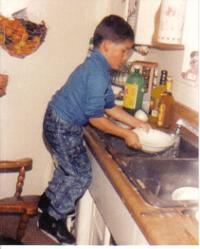person: (37, 13, 152, 244)
